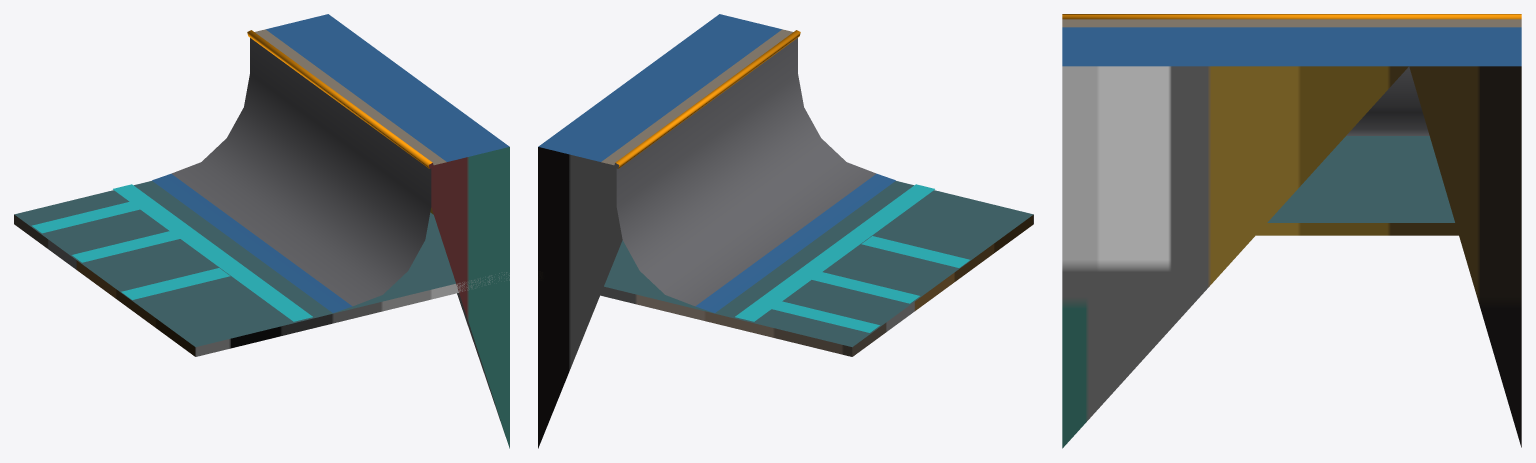
The model's file is tile_8_0_2.gltf.
3 renders of one model, left to right at view 1: azimuth 30°, elevation 25°; view 2: azimuth 150°, elevation 25°; view 3: azimuth 270°, elevation 25°, orthographic. The views are drawn at different scales.
Visible parts, largest first — view 1: pipe.main, ground, decal.main, decal.ramp.branches, pipe.main.rim; view 2: pipe.main, ground, decal.main, decal.ramp.branches, pipe.main.rim; view 3: pipe.main, ground, pipe.main.rim.
Part boxes in pixels (box(x1,y1,x2,y2)): pipe.main: box(152, 14, 509, 448); ground: box(14, 181, 509, 356); decal.main: box(113, 184, 312, 321); decal.ramp.branches: box(32, 201, 230, 299); pipe.main.rim: box(247, 30, 433, 168); pipe.main: box(538, 14, 895, 448); ground: box(538, 181, 1033, 356); decal.main: box(735, 184, 934, 321); decal.ramp.branches: box(772, 236, 969, 332); pipe.main.rim: box(614, 30, 800, 168); pipe.main: box(1062, 19, 1521, 448); ground: box(1062, 136, 1458, 235); pipe.main.rim: box(1062, 14, 1521, 19).
Size of what is drawn, in the model's own units: 8 by 7.42 by 8.
2 materials, 2 textured.
